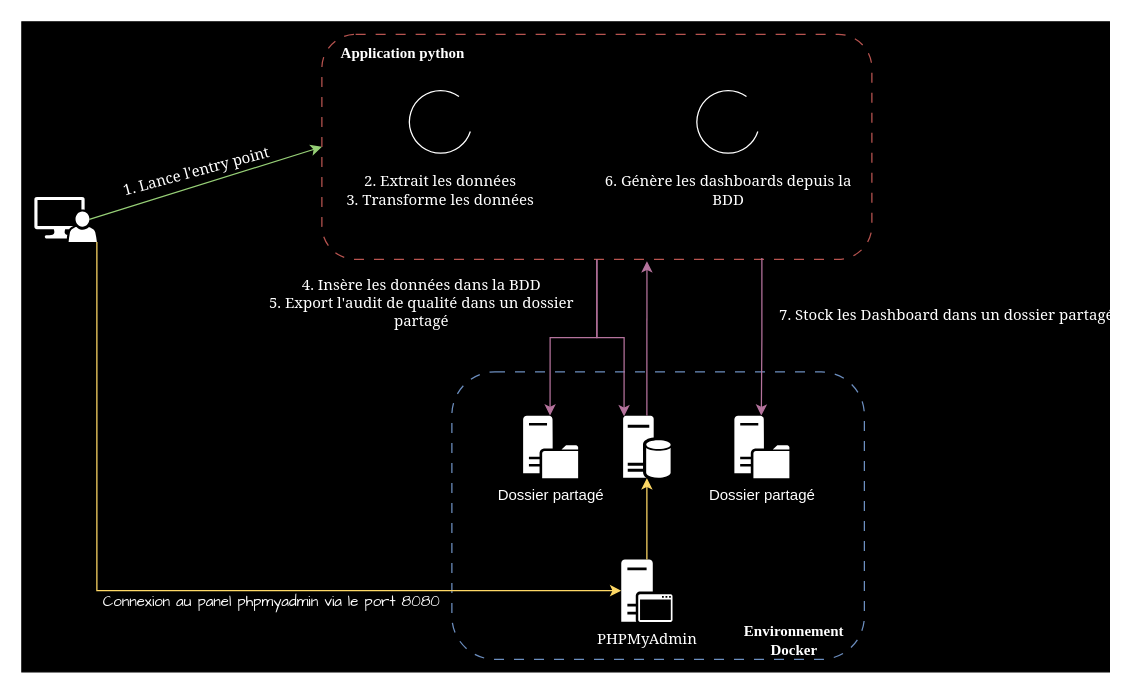
Image size: 1144x694. Some labels were removed from this diagram. Each missing label, with the centre of its shape:
MariaDB: [646,446]
USER: [65,218]
